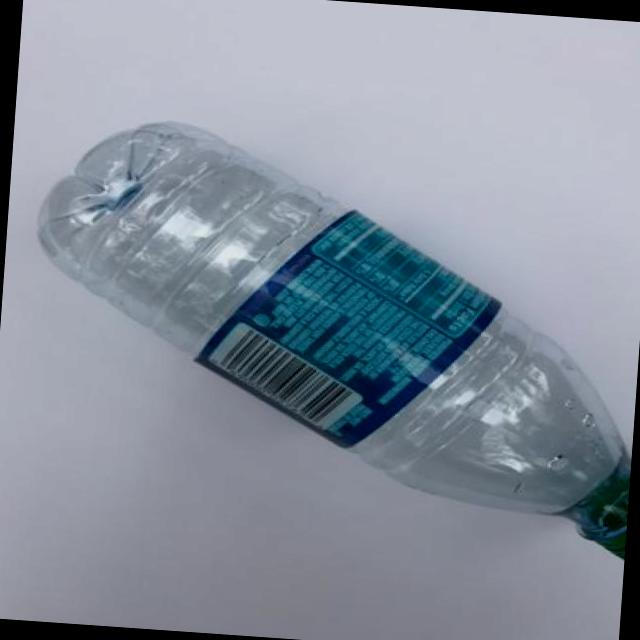bottle: (39, 123, 630, 558)
plastic: (39, 123, 343, 356)
